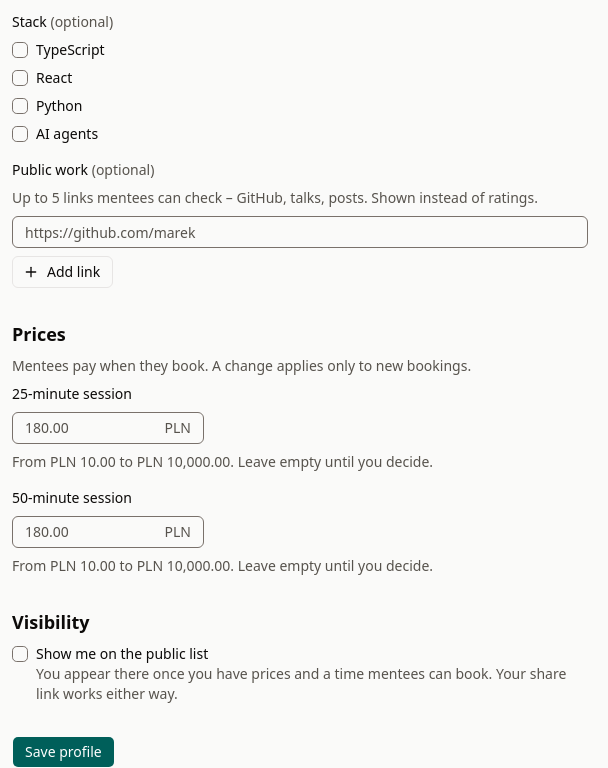
Test: MentorProfileForm › refuses an incomplete profile and focuses the first problem
The image size is (608, 768).
(page scrolled)
Click the button "Save profile": (63, 752) [12,736,115,767]
(page scrolled)
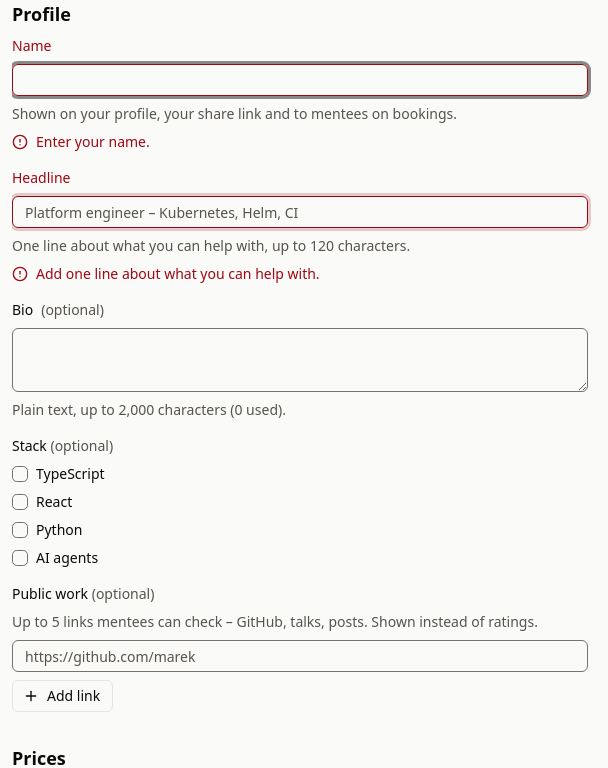
Now the text "Enter your name." is shown, box [36,132,150,152]
Now the text "Add one line about what you can help with." is shown, box [36,264,320,284]
